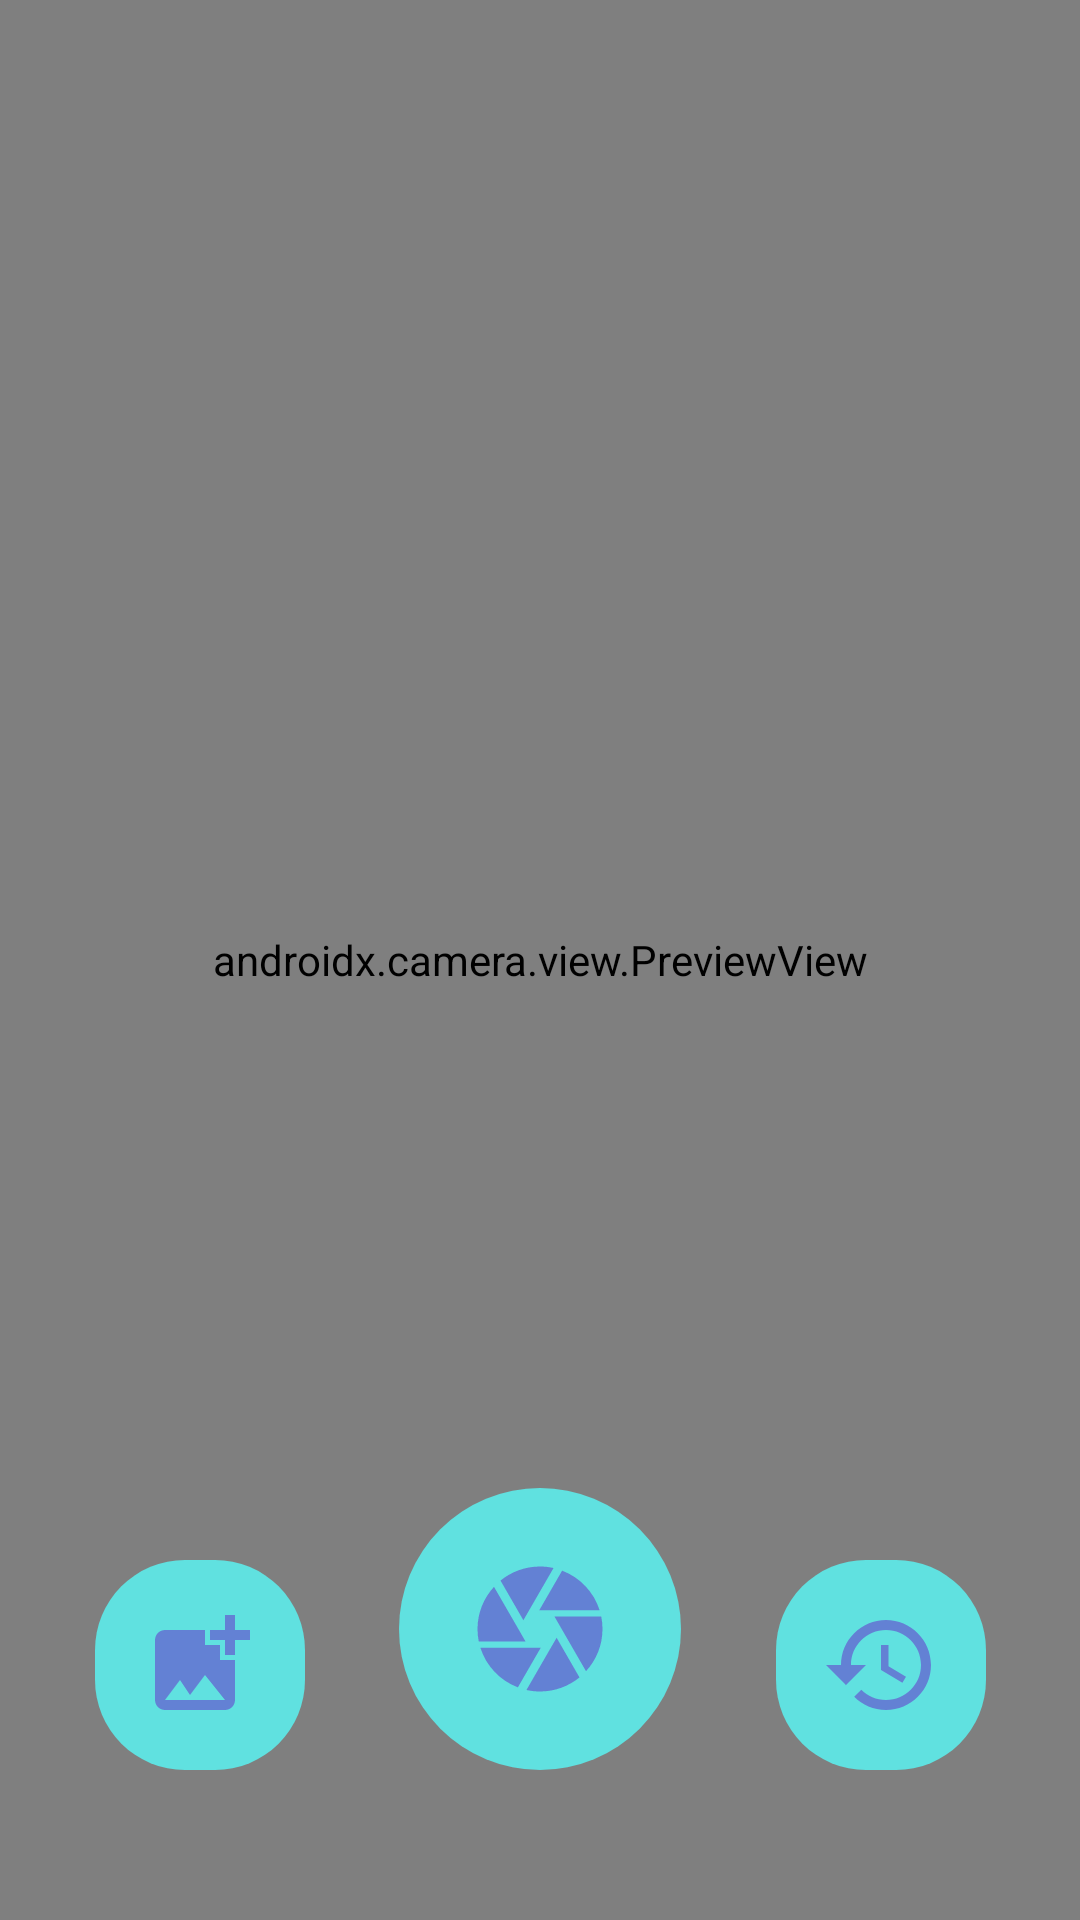

Screen size 1080x1920. Icon name, then its box in pixels as box=[x1, y1, x2, y2]:
add existing: box=[95, 1560, 305, 1770]
history: box=[776, 1560, 986, 1770]
